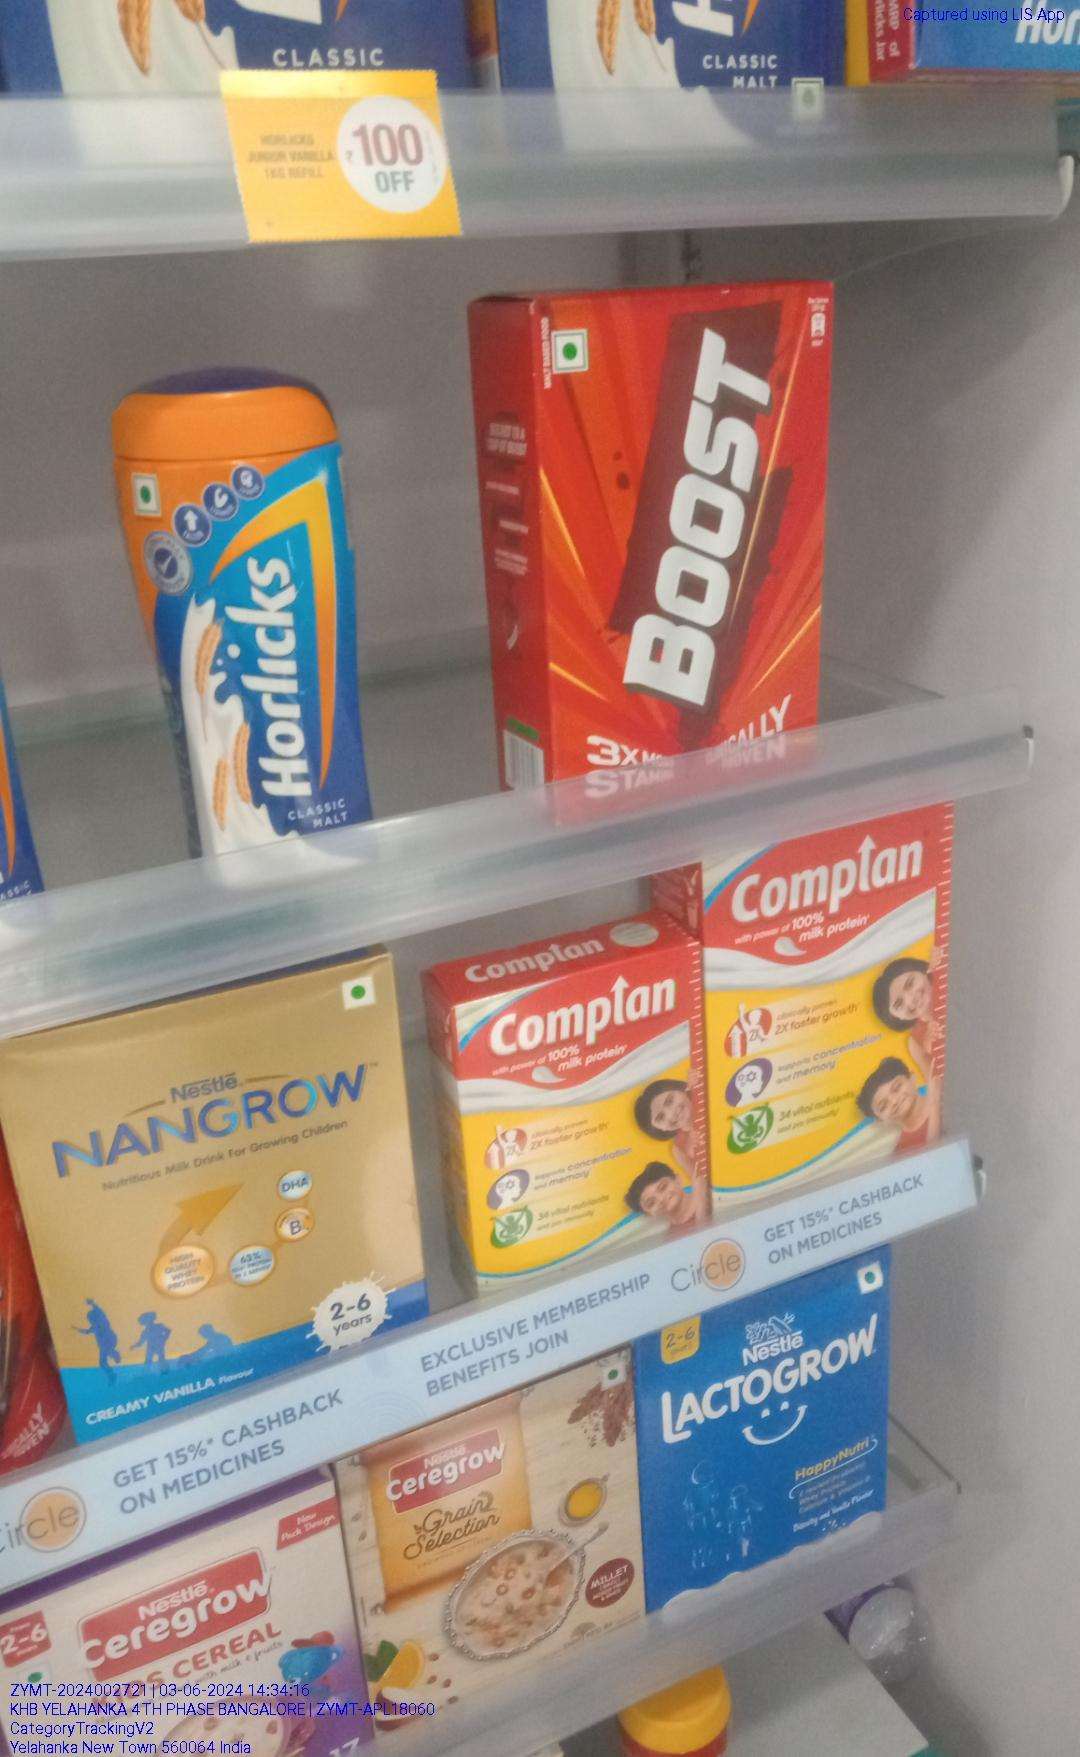COMPLAN_CREAMY_CLASSIC_500_G_PACK: (470, 946, 697, 1305)
HORLICK_CLASSIC_MALT_500_G_JAR: (135, 375, 365, 833)
